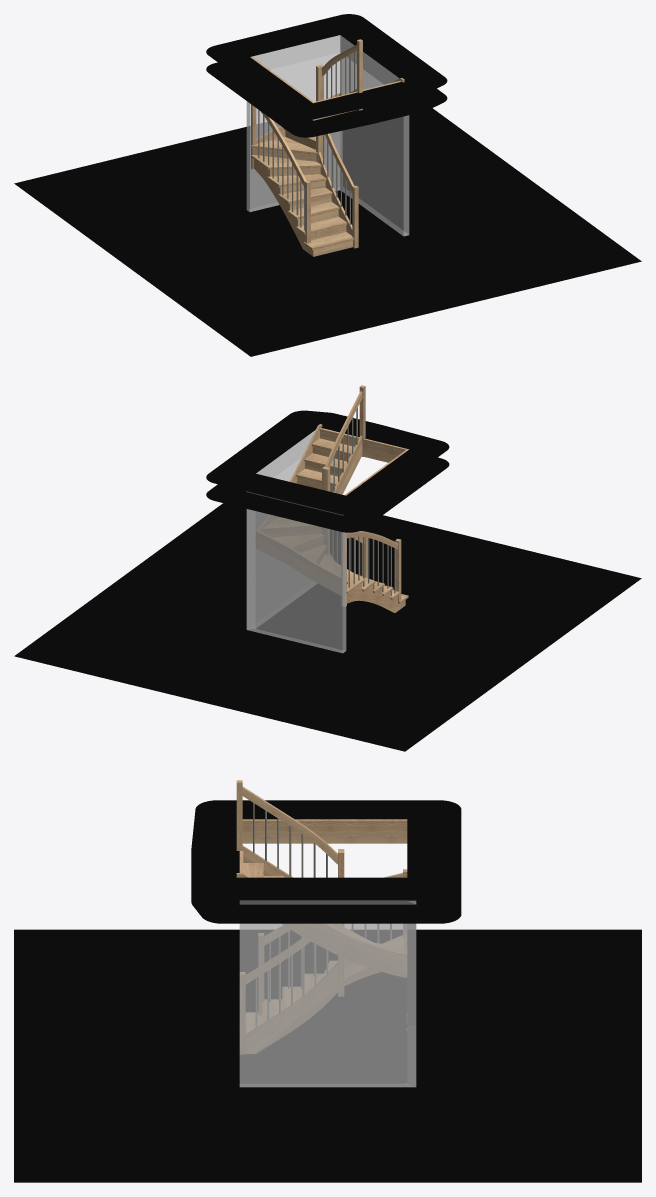
3 renders of one model, top to bottom at view 1: azimuth 30°, elevation 25°; view 2: azimuth 150°, elevation 25°; view 3: azimuth 270°, elevation 25°, orthographic. The views are drawn at different scales.
Visible parts, largest first — view 1: _x0023_OBJECT3D1111, _x0023_BEGIN_WALL0_x002C_90_x002C_90_x002C_90_x002C_3, _x0023_TREADcon_ash.jpg1111 (×2), _x0023_RISERcon_ash.jpg1111, _x0023_BEGIN_OPENING1111, _x0023_BALUSTER0_x002C_820_x002C_80_x002C_71, _x0023_POSTcon_ash.jpg1111, _x0023_STRINGcon_ash.jpg1111; view 2: _x0023_OBJECT3D1111, _x0023_BEGIN_WALL0_x002C_90_x002C_90_x002C_90_x002C_3, _x0023_STRINGcon_ash.jpg1111, _x0023_TREADcon_ash.jpg1111 (×2), _x0023_BALUSTER0_x002C_820_x002C_80_x002C_71, _x0023_POSTcon_ash.jpg1111, _x0023_RISERcon_ash.jpg1111, _x0023_BEGIN_OPENINGcon_ash.jpg1111, _x0023_BEGIN_OPENING1111; view 3: _x0023_OBJECT3D1111, _x0023_BEGIN_WALL0_x002C_90_x002C_90_x002C_90_x002C_3, _x0023_STRINGcon_ash.jpg1111, _x0023_BEGIN_OPENINGcon_ash.jpg1111, _x0023_POSTcon_ash.jpg1111, _x0023_TREADcon_ash.jpg1111 (×2), _x0023_BALUSTER0_x002C_820_x002C_80_x002C_71, _x0023_HANDRAILcon_ash.jpg1111 (×2).
Boxes of the visible parts, box(x1,y1,x2,y2) form: _x0023_OBJECT3D1111: box(14, 14, 641, 356); _x0023_BEGIN_WALL0_x002C_90_x002C_90_x002C_90_x002C_3: box(246, 52, 409, 236); _x0023_TREADcon_ash.jpg1111 (×2): box(251, 81, 399, 250); _x0023_RISERcon_ash.jpg1111: box(253, 130, 352, 256); _x0023_BEGIN_OPENING1111: box(252, 35, 399, 84); _x0023_BALUSTER0_x002C_820_x002C_80_x002C_71: box(258, 52, 355, 230); _x0023_POSTcon_ash.jpg1111: box(251, 39, 362, 248); _x0023_STRINGcon_ash.jpg1111: box(253, 78, 404, 256); _x0023_OBJECT3D1111: box(14, 410, 641, 751); _x0023_BEGIN_WALL0_x002C_90_x002C_90_x002C_90_x002C_3: box(246, 457, 346, 653); _x0023_STRINGcon_ash.jpg1111: box(256, 424, 405, 612); _x0023_TREADcon_ash.jpg1111 (×2): box(262, 428, 408, 603); _x0023_BALUSTER0_x002C_820_x002C_80_x002C_71: box(255, 407, 395, 595); _x0023_POSTcon_ash.jpg1111: box(322, 385, 401, 606); _x0023_RISERcon_ash.jpg1111: box(264, 446, 405, 605); _x0023_BEGIN_OPENINGcon_ash.jpg1111: box(320, 428, 408, 495); _x0023_BEGIN_OPENING1111: box(256, 430, 315, 477); _x0023_OBJECT3D1111: box(14, 800, 641, 1182); _x0023_BEGIN_WALL0_x002C_90_x002C_90_x002C_90_x002C_3: box(239, 900, 416, 1087); _x0023_STRINGcon_ash.jpg1111: box(236, 845, 406, 1053); _x0023_BEGIN_OPENINGcon_ash.jpg1111: box(239, 819, 407, 872); _x0023_POSTcon_ash.jpg1111: box(236, 780, 407, 1054); _x0023_TREADcon_ash.jpg1111 (×2): box(240, 850, 403, 1032); _x0023_BALUSTER0_x002C_820_x002C_80_x002C_71: box(253, 803, 407, 1029); _x0023_HANDRAILcon_ash.jpg1111 (×2): box(242, 786, 337, 983).
Size of the model in its own units: 7.96 by 4.02 by 8.35.
10 materials, 6 textured.
